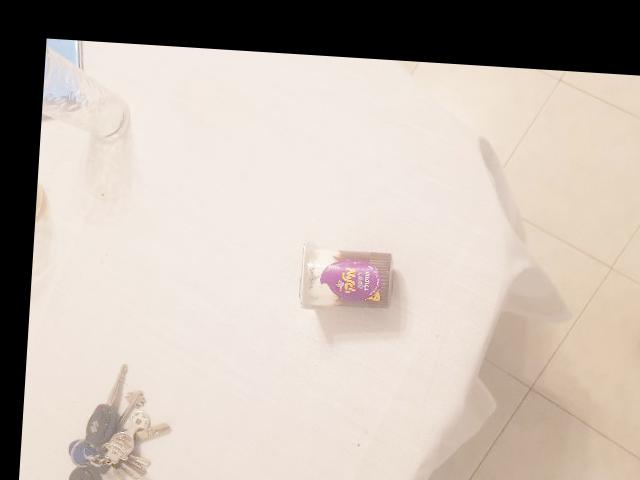milky: (217, 160, 300, 278)
